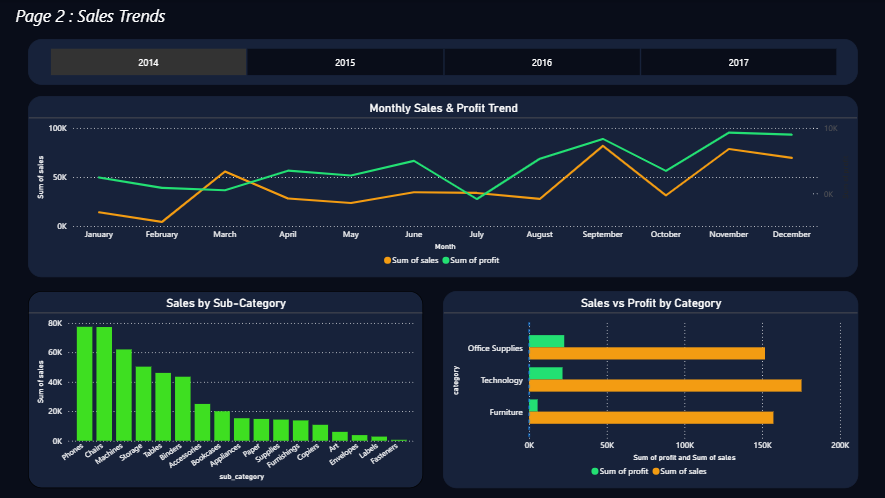

Layout of this report page (visuals, bound fields, positions):
{"tool":"powerbi","page":{"name":"Sales Trends","canvas":[1280,720],"ordinal":1},"visuals":[{"type":"lineChart","title":"Monthly Sales & Profit Trend","fields":{"Category":["public vw_sales_summary.order_date.Variation.Date Hierarchy.Month"],"Y":["Sum(public vw_sales_summary.sales)"],"Y2":["Sum(public vw_sales_summary.profit)"]},"box":[41.8,138.2,1195.2,260.6],"z":0},{"type":"clusteredColumnChart","title":"Sales by Sub-Category","fields":{"Category":["public vw_sales_summary.sub_category"],"Y":["Sum(public vw_sales_summary.sales)"]},"box":[41.8,419,568.8,283.7],"z":1000},{"type":"clusteredBarChart","title":"Sales vs Profit by Category","fields":{"Category":["public vw_sales_summary.category"],"Y":["Sum(public vw_sales_summary.profit)","Sum(public vw_sales_summary.sales)"]},"box":[639.4,419,597.6,283.7],"z":2000},{"type":"slicer","fields":{"Values":["public vw_sales_summary.order_date.Variation.Date Hierarchy.Year"]},"box":[41.8,56.2,1195.2,66.2],"z":3000},{"type":"textbox","box":[18.7,0,301,56.2],"z":4000}]}

Visuals, with their boxes in screenshot pixels (x1, y1, x2, y2), scaled from the page's 1280x720 canvas onto the 885x498 screenshot:
"Monthly Sales & Profit Trend" lineChart: 29:96:855:276
"Sales by Sub-Category" clusteredColumnChart: 29:290:422:486
"Sales vs Profit by Category" clusteredBarChart: 442:290:855:486
slicer - public vw_sales_summary.order_date.Variation.Date Hierarchy.Year: 29:39:855:85
textbox: 13:0:221:39
